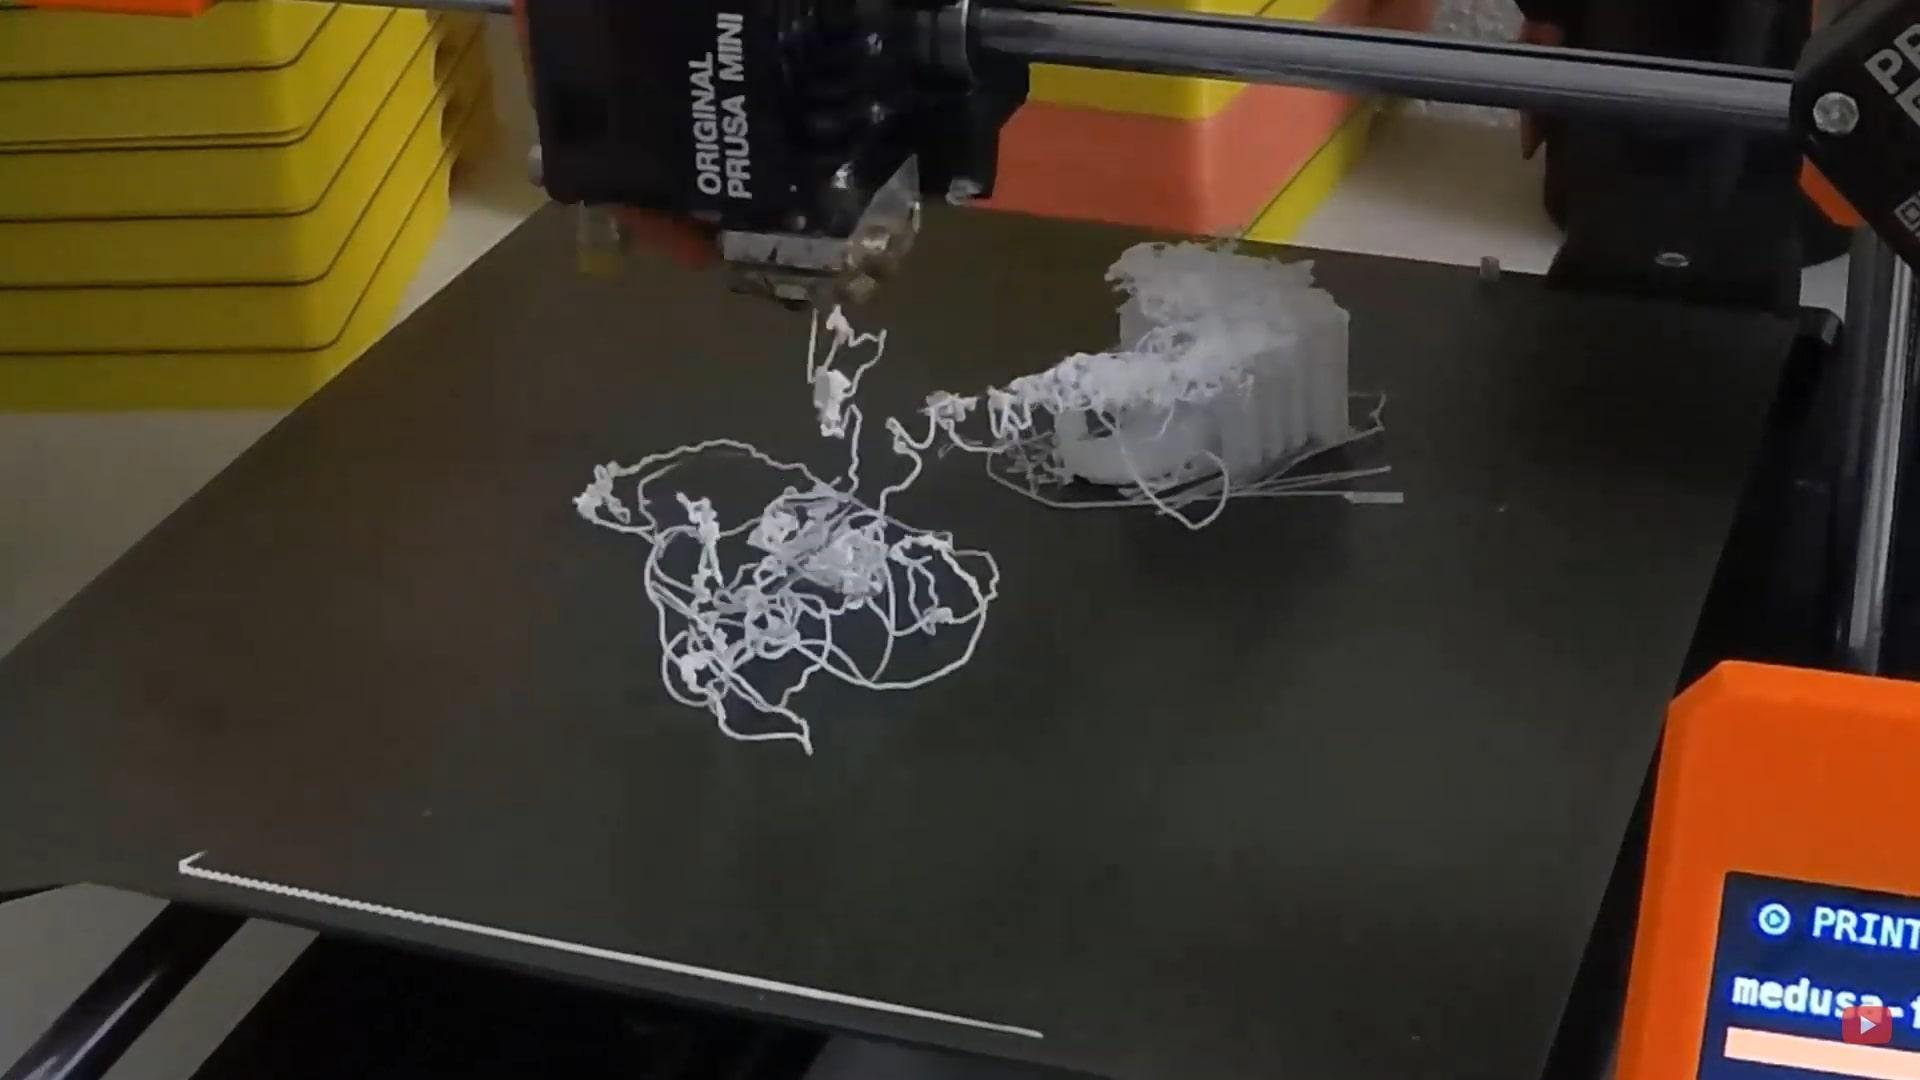Printing-Artifact: (525, 289, 1038, 774)
